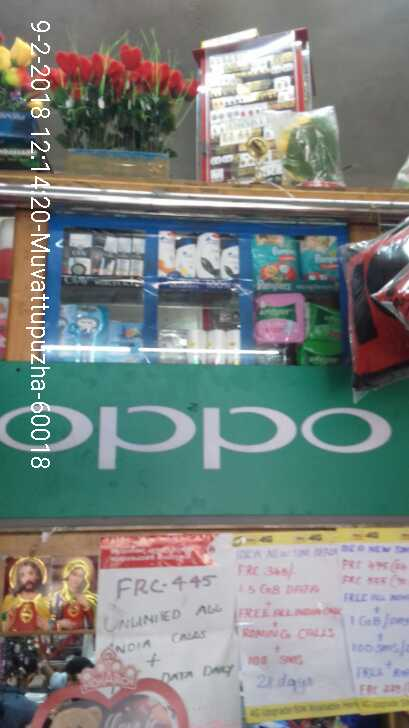venus: (77, 305, 108, 359), (108, 320, 142, 359)
